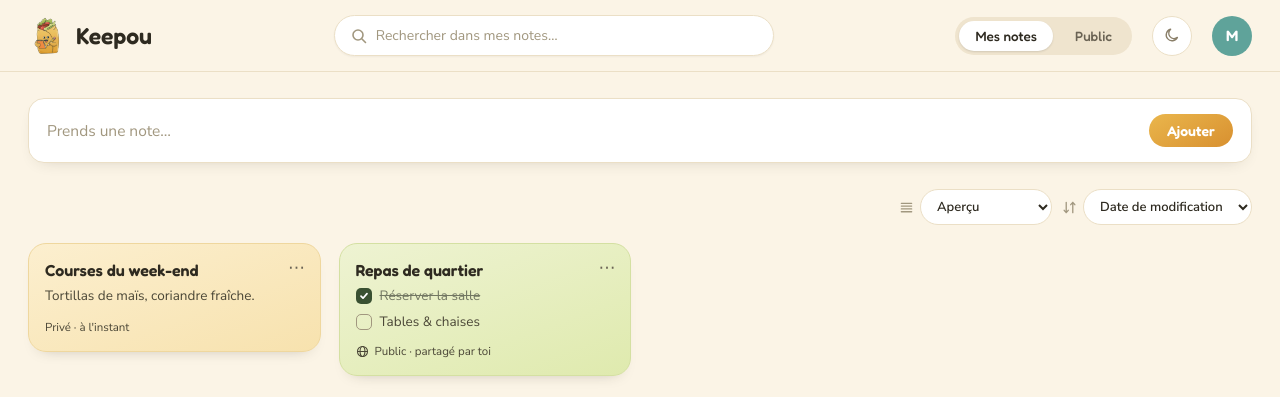
Test: BoardPage › filters the visible cards from the search input (title + body, accent-insensitive)
Check: the button "Courses du week-end" is shown, box [28, 243, 320, 352]
Type "mais" into the search field labelled "Rechercher dans mes notes…" at (566,36), box [376, 26, 757, 45]
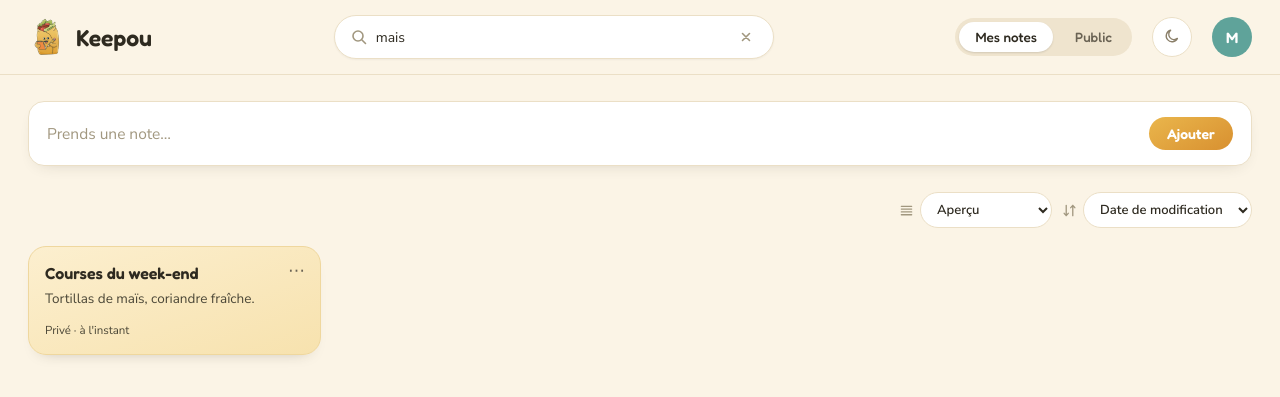
Check: the button "Courses du week-end" is shown, box [28, 246, 320, 355]
Check: the button "Repas de quartier" is gone
Replace the text in the search field named "Rechercher dans mes notes…" with "introuvable" at (551,37), box [376, 28, 726, 46]
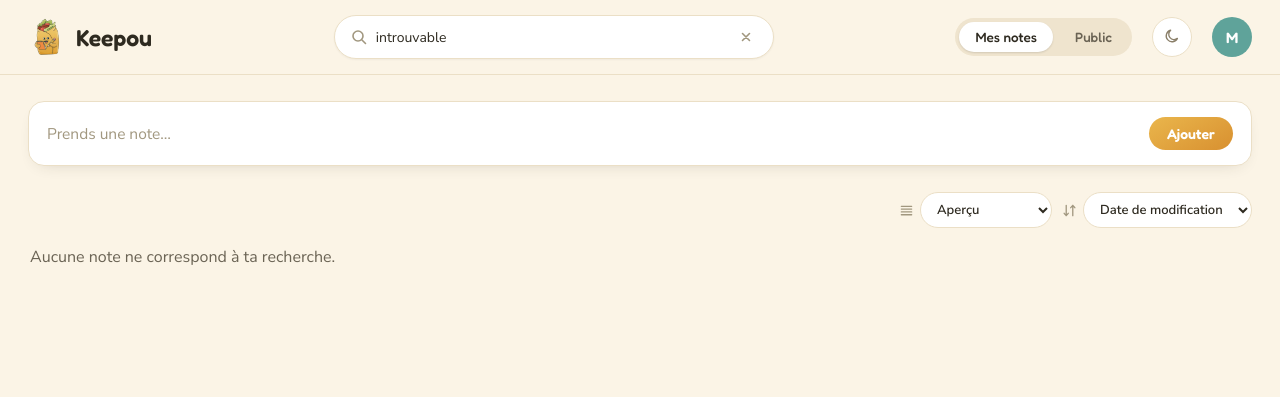
Check: the text "Aucune note ne correspond à ta recherche." is shown, box [30, 246, 335, 268]
